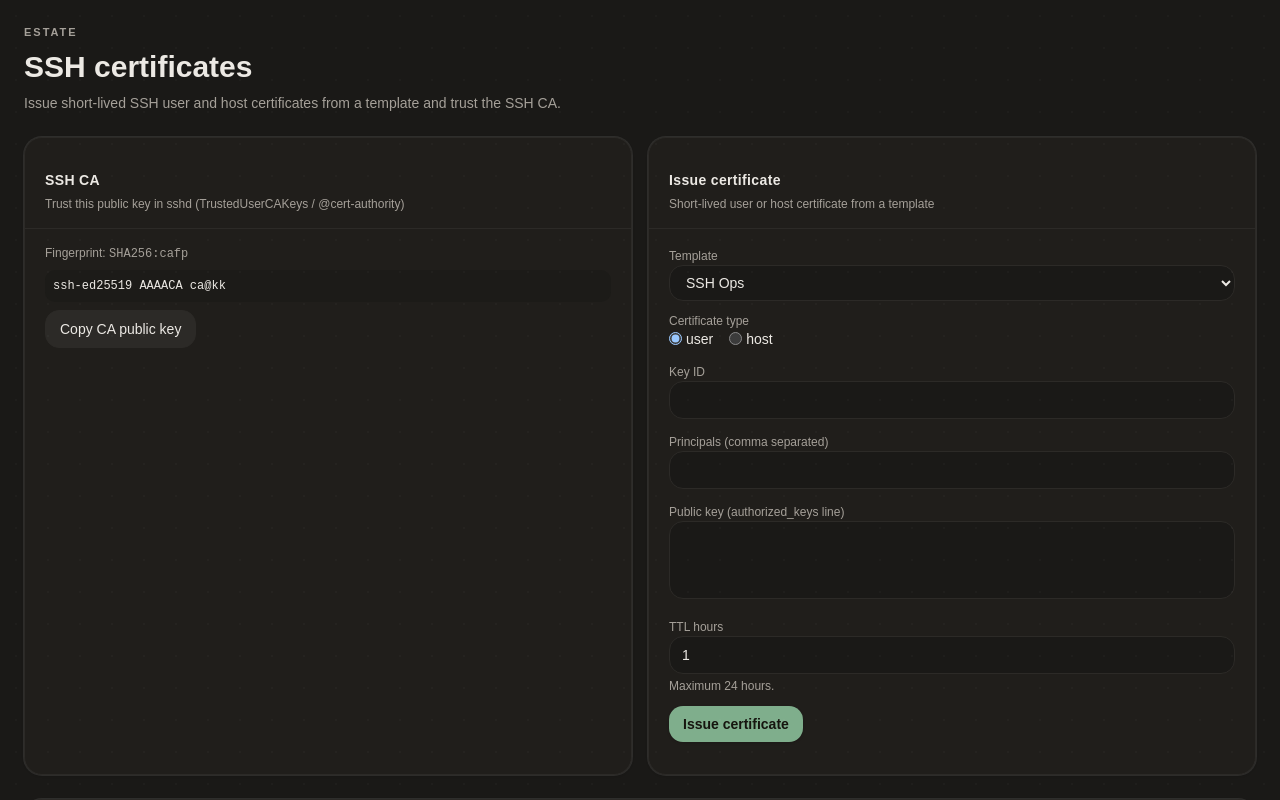
it: SSH certificates page › blocks a principal outside allowed_principals
The width and height of the screenshot is (1280, 800).
Type "kid-1" into the field labelled "Key ID" at {"x": 952, "y": 400}, box [669,380,1235,418]
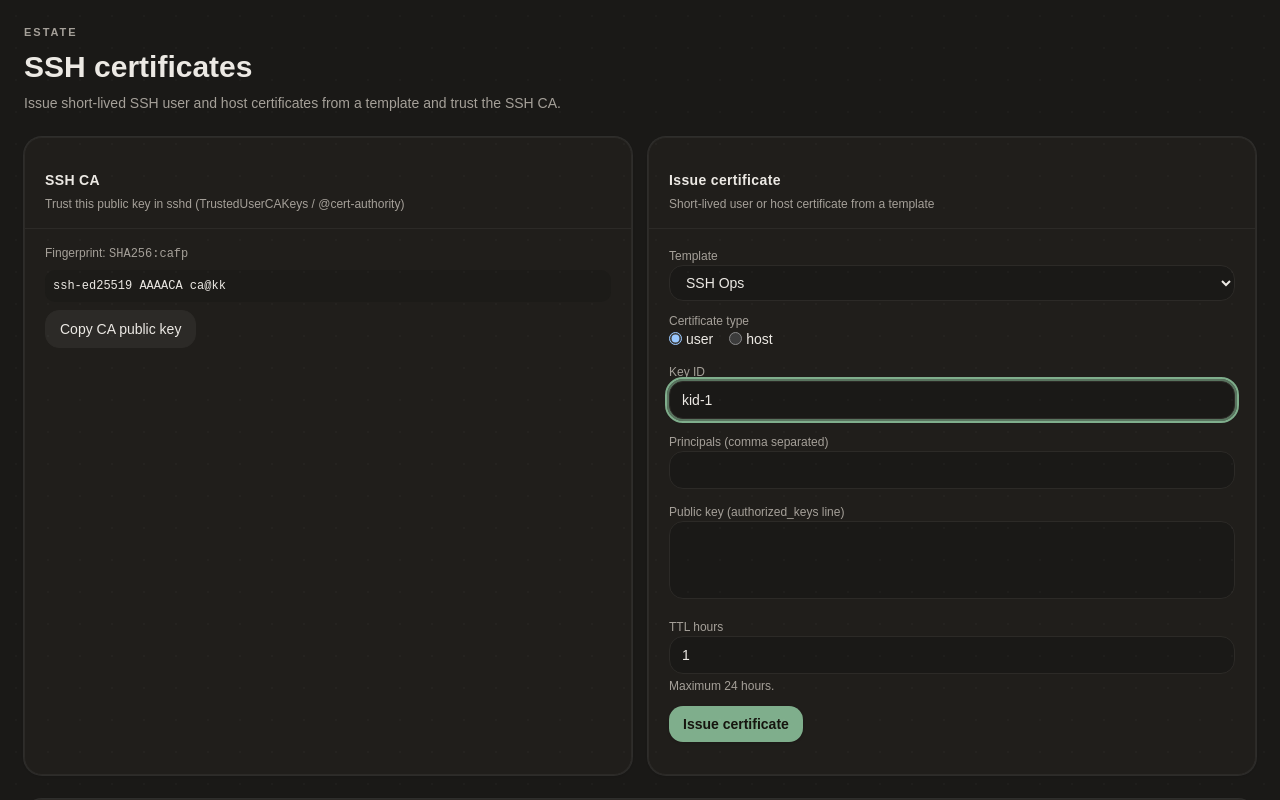
Type "mallory" into the field labelled "Principals (comma separated)" at {"x": 952, "y": 470}, box [669,450,1235,488]
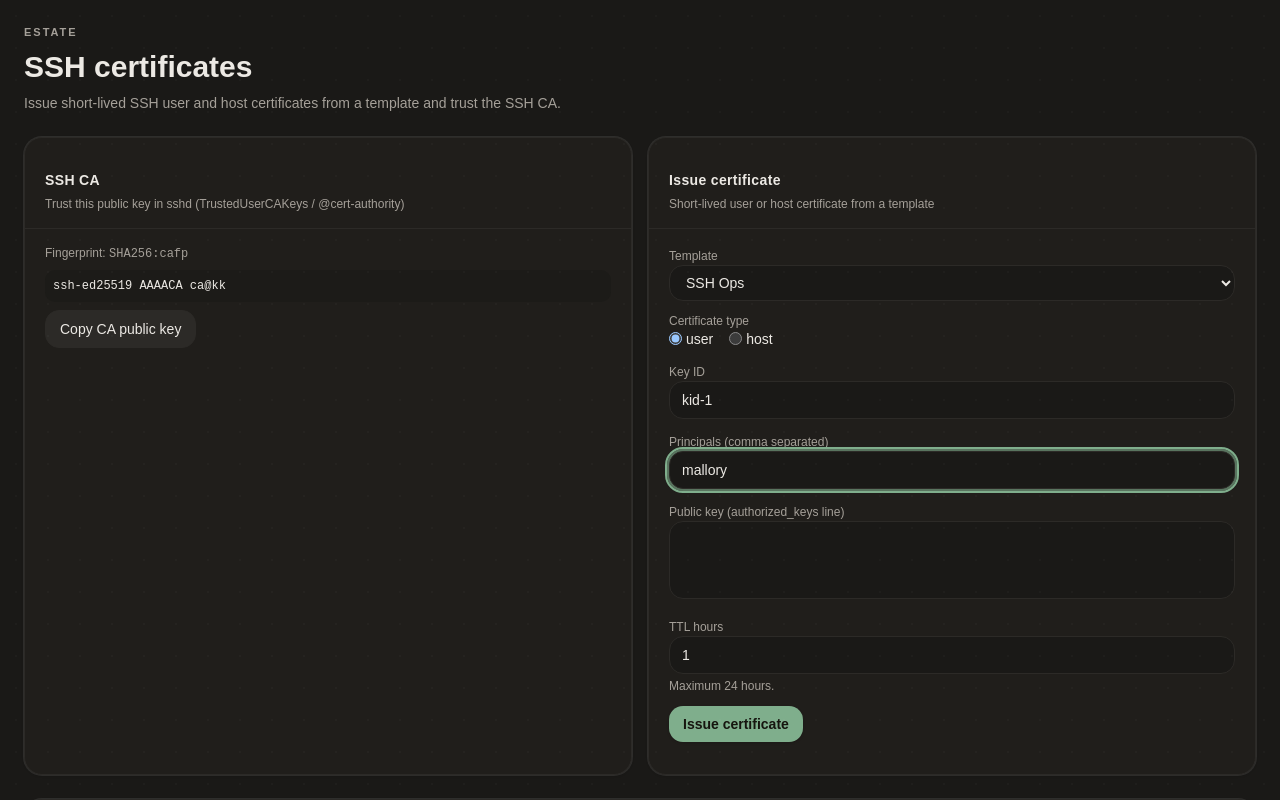
Click the text box labelled "Public key (authorized_keys line)" at {"x": 952, "y": 560}, box [669,520,1235,598]
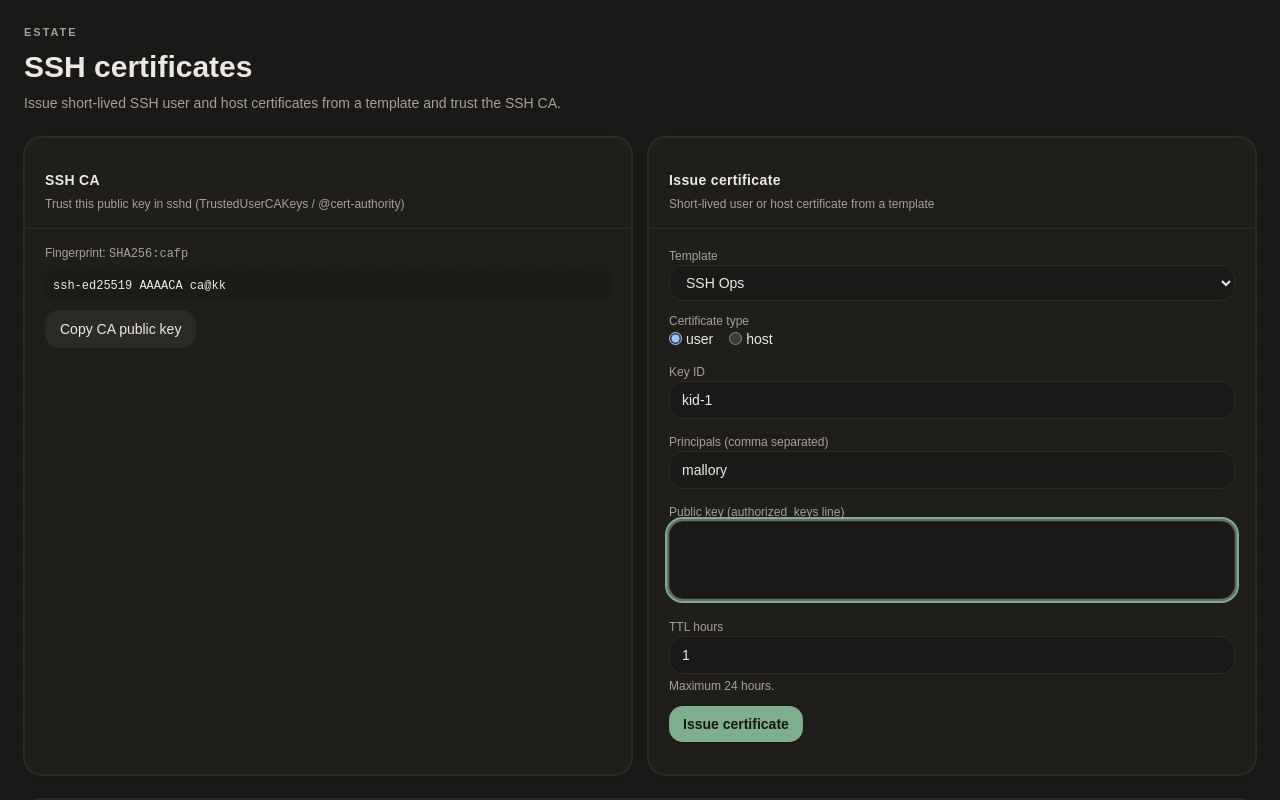
Type keys "ssh-ed25519 AAAAC3NzaC1lZDI1NTE5AAAAIabc user@laptop"
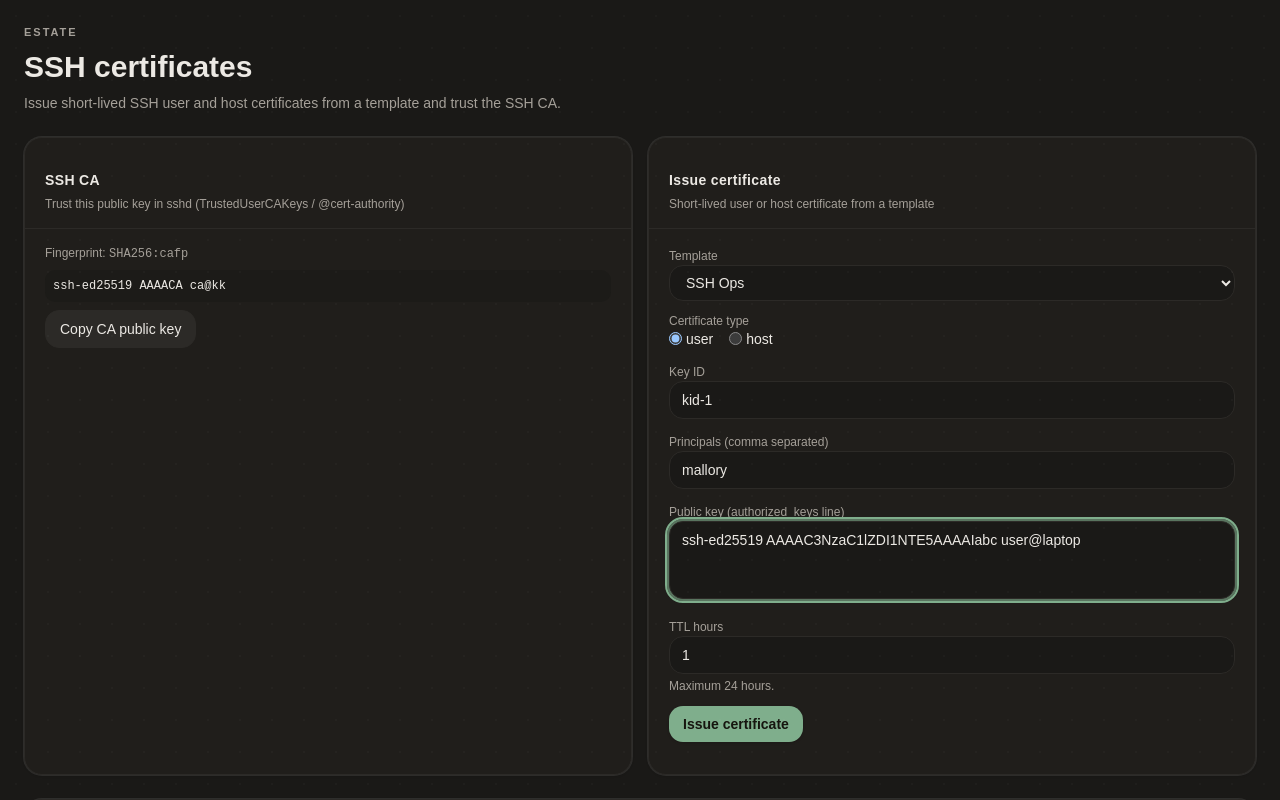
Replace the text in the number field labelled "TTL hours" with "8" at {"x": 952, "y": 654}, box [669,636,1235,674]
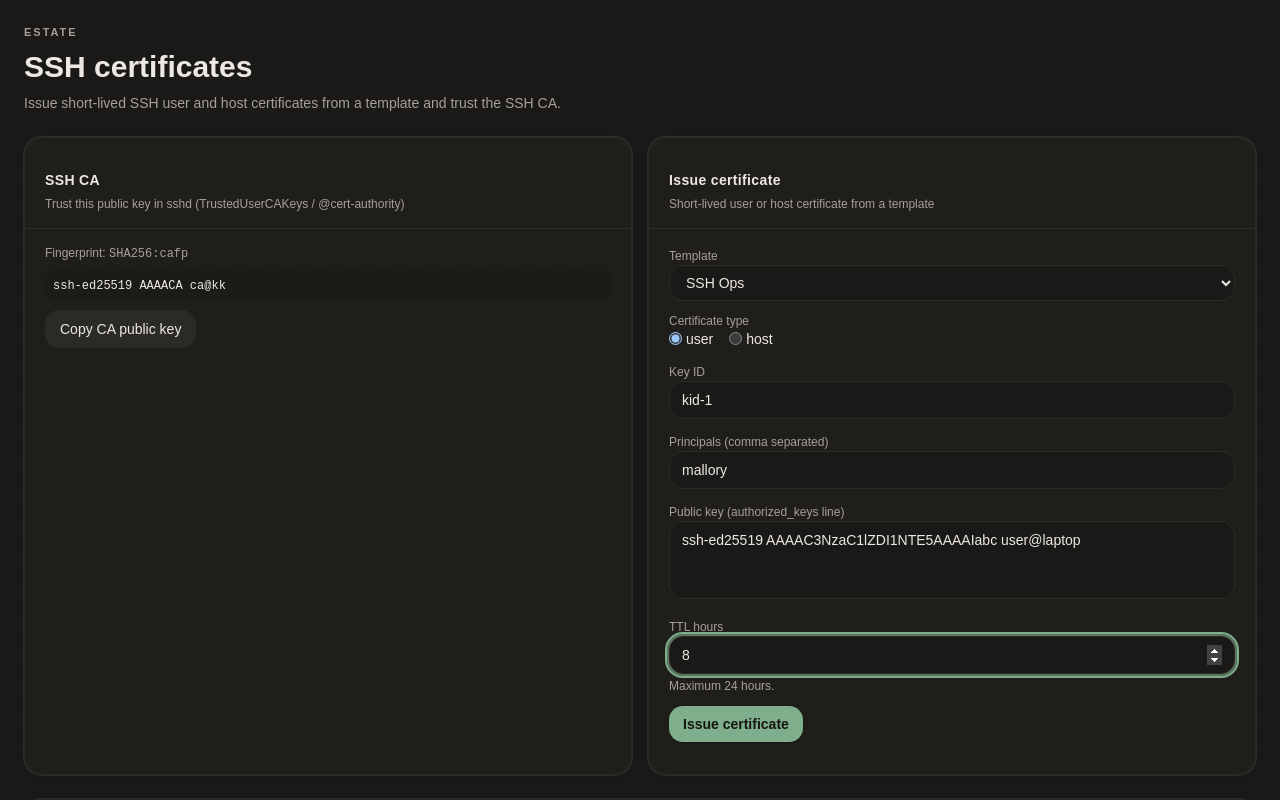
Click the button "Issue certificate" at {"x": 736, "y": 724}, box [669,706,803,742]
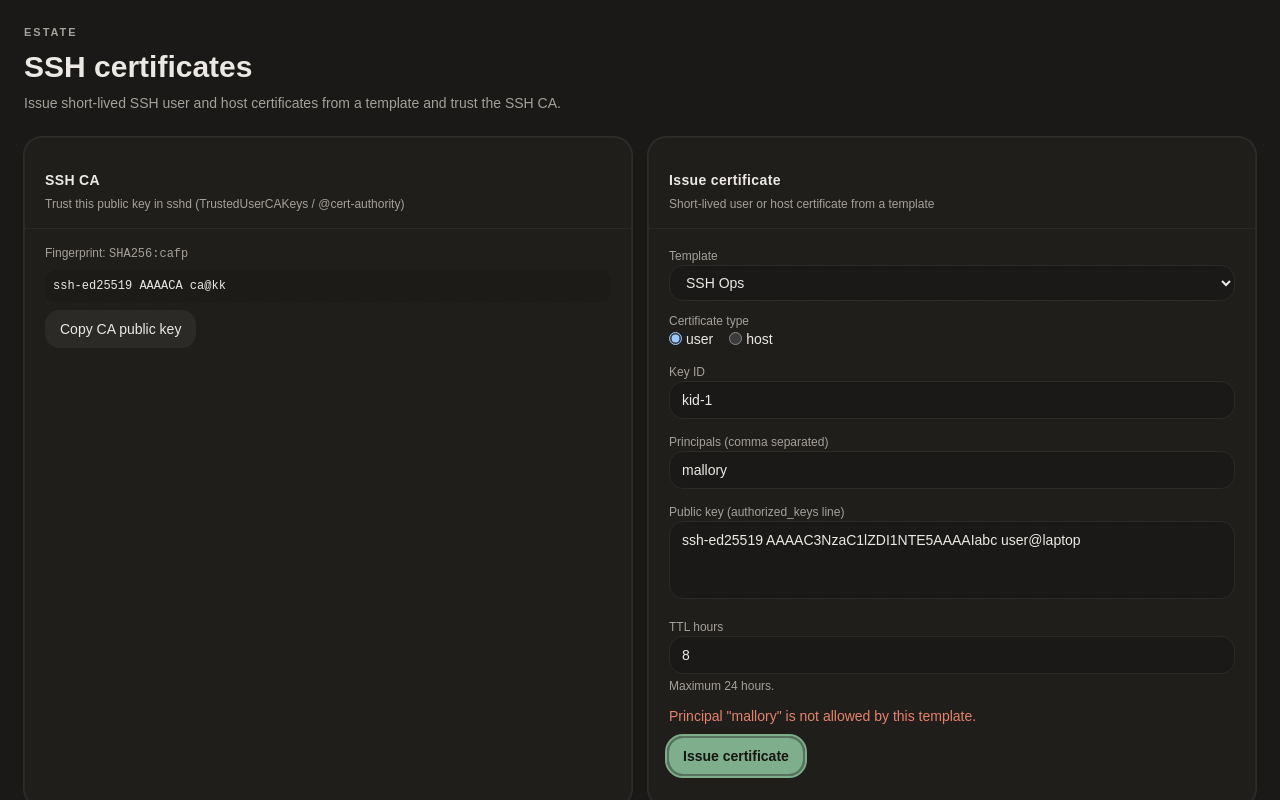
expect the message shows "mallory": met, box [669,708,976,724]
